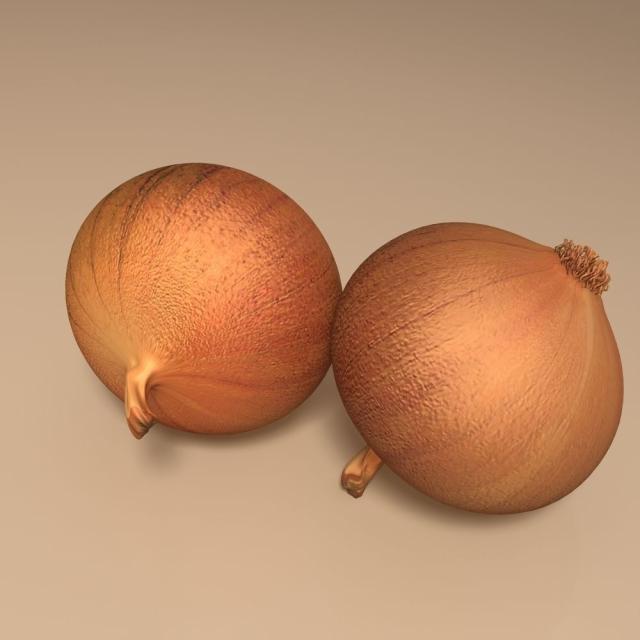onion: (329, 219, 625, 518), (65, 160, 345, 440)
